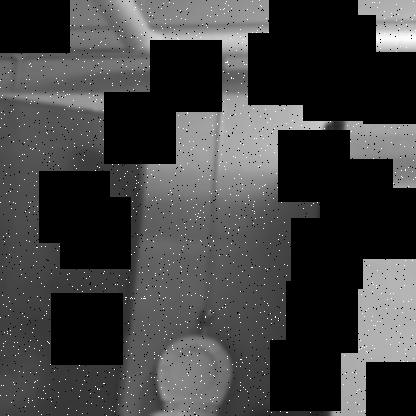Porte: (0, 92, 349, 415)
